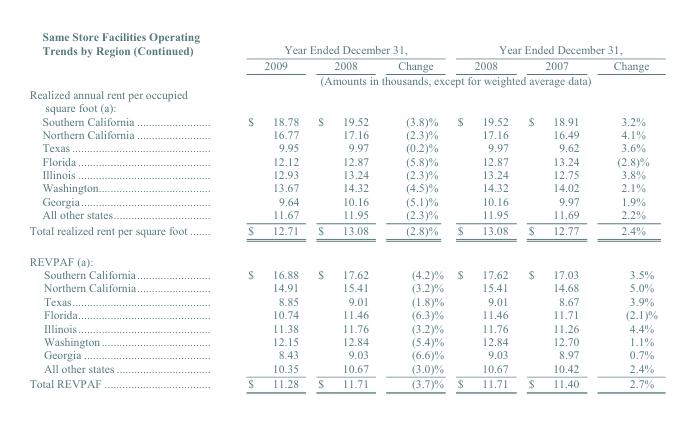table: (28, 28, 657, 390)
table column: (28, 28, 223, 390), (223, 28, 307, 390), (517, 28, 595, 390), (307, 28, 382, 390), (449, 28, 517, 390), (382, 28, 449, 390), (595, 28, 657, 390)
table column header: (28, 28, 657, 87)
table projected row header: (28, 87, 657, 113), (28, 245, 657, 267)
table row: (28, 28, 657, 57), (28, 87, 657, 113), (28, 221, 657, 245), (28, 245, 657, 267), (28, 57, 657, 72), (28, 72, 657, 87), (28, 360, 657, 375), (28, 375, 657, 390), (28, 113, 657, 127), (28, 153, 657, 167), (28, 180, 657, 194), (28, 207, 657, 221), (28, 280, 657, 294), (28, 320, 657, 334), (28, 127, 657, 140), (28, 140, 657, 153), (28, 167, 657, 180), (28, 194, 657, 207), (28, 267, 657, 280), (28, 294, 657, 307), (28, 307, 657, 320), (28, 334, 657, 347), (28, 347, 657, 360)
table spanning cell: (28, 28, 223, 87), (223, 28, 449, 57), (223, 72, 657, 87), (449, 28, 657, 57)
